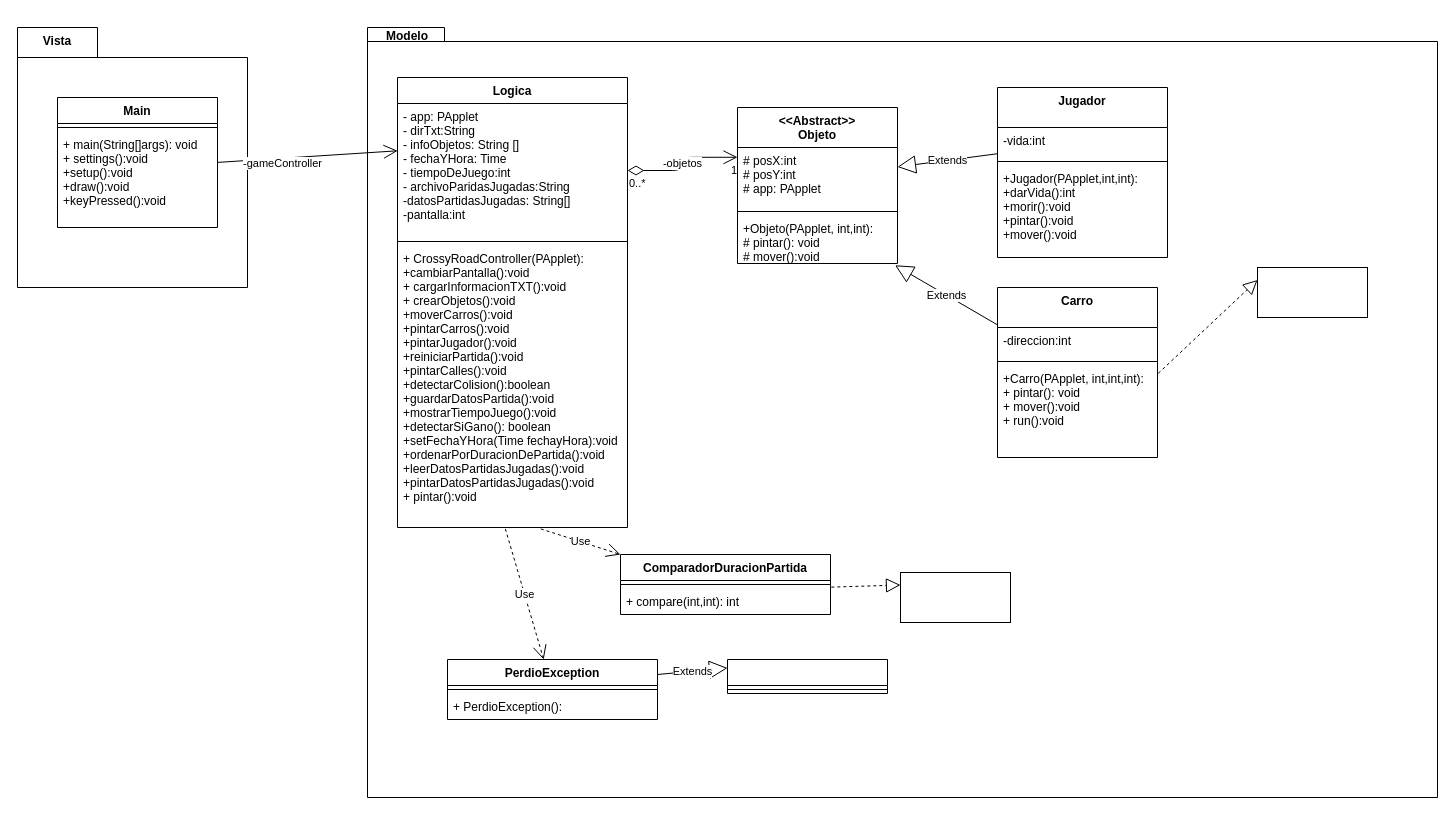
Image size: 1455x815. Some labels were removed from this diagram. Here are the shapes that lost their labels. From the top down, the centre of each, then its label:
At point 1312,292: "«interface» Runnable".
At point 955,597: "«interface» Comparator".
At point 807,676: "Exception".
